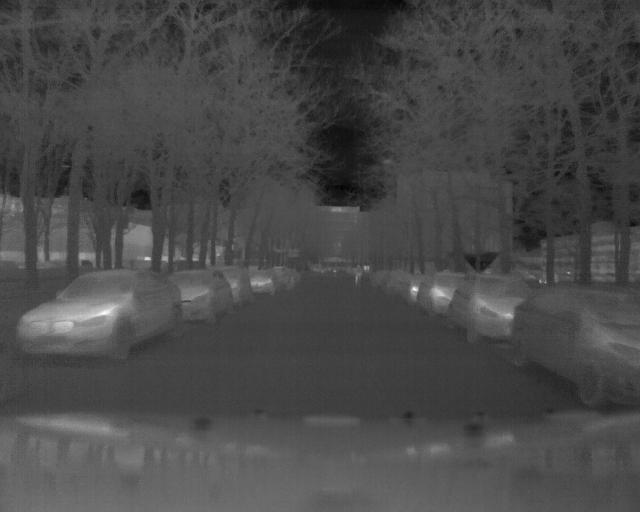car: (517, 268, 635, 408), (8, 266, 180, 361), (170, 264, 249, 320), (458, 271, 503, 349), (424, 269, 450, 316), (256, 260, 277, 298)
person: (358, 260, 366, 288)
